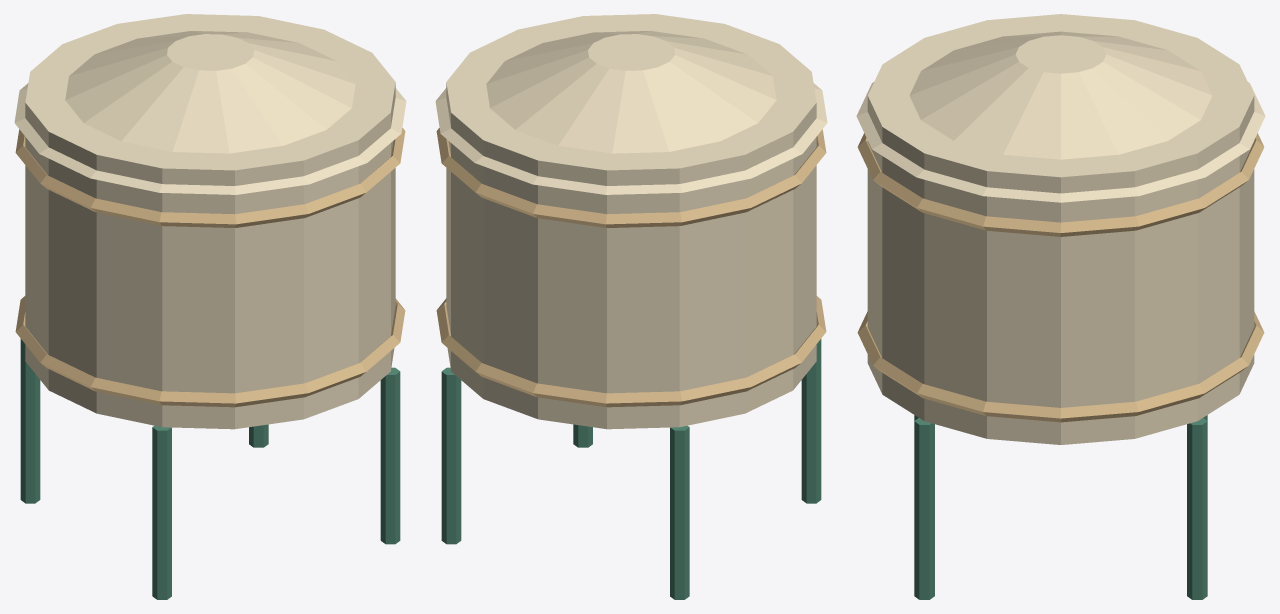
Rendered from tpe5_roof_water_tank.glb.
3 renders of one model, left to right at view 1: azimuth 30°, elevation 25°; view 2: azimuth 150°, elevation 25°; view 3: azimuth 270°, elevation 25°, orthographic. The views are drawn at different scales.
Parts seen in each view (by area): view 1: tpe5_roof_water_tank__tpe5-street-ivory, tpe5_roof_water_tank__tpe5-street-brass, tpe5_roof_water_tank__tpe5-street-jade; view 2: tpe5_roof_water_tank__tpe5-street-ivory, tpe5_roof_water_tank__tpe5-street-brass, tpe5_roof_water_tank__tpe5-street-jade; view 3: tpe5_roof_water_tank__tpe5-street-ivory, tpe5_roof_water_tank__tpe5-street-brass, tpe5_roof_water_tank__tpe5-street-jade.
Boxes of the visible parts, box(x1,y1,x2,y2) form: tpe5_roof_water_tank__tpe5-street-ivory: box(14, 14, 406, 429); tpe5_roof_water_tank__tpe5-street-brass: box(15, 128, 405, 407); tpe5_roof_water_tank__tpe5-street-jade: box(20, 339, 400, 599); tpe5_roof_water_tank__tpe5-street-ivory: box(435, 14, 827, 429); tpe5_roof_water_tank__tpe5-street-brass: box(436, 128, 826, 407); tpe5_roof_water_tank__tpe5-street-jade: box(441, 339, 821, 599); tpe5_roof_water_tank__tpe5-street-ivory: box(856, 14, 1265, 444); tpe5_roof_water_tank__tpe5-street-brass: box(857, 133, 1264, 422); tpe5_roof_water_tank__tpe5-street-jade: box(914, 415, 1207, 599).
Size of the model in its own units: 1.8 by 2.35 by 1.8.
